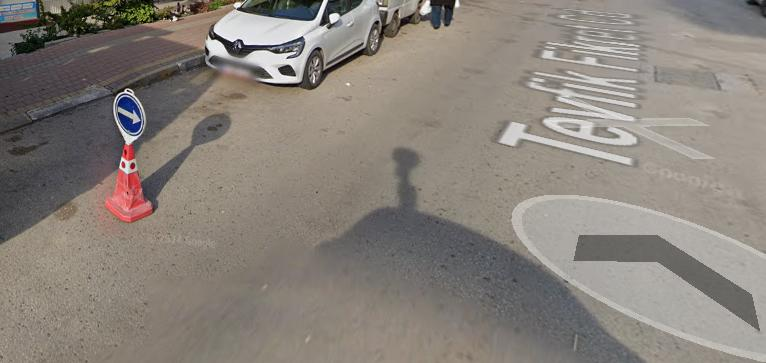turnright: (113, 97, 146, 134)
